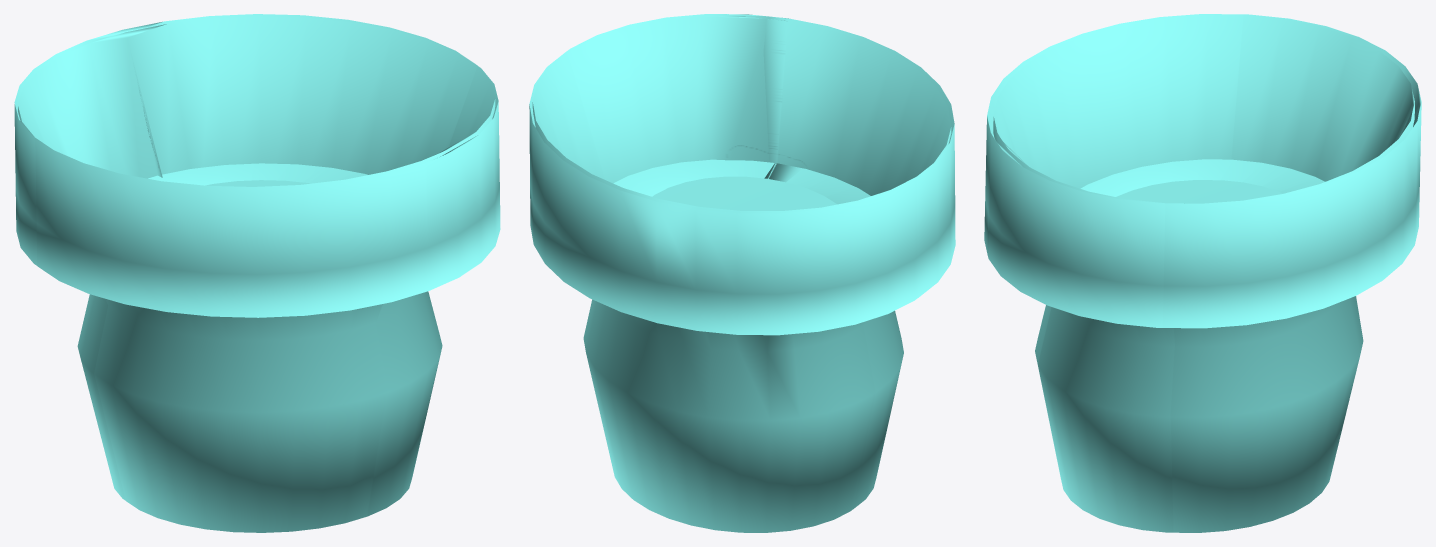
File: cup.glb
3 renders of one model, left to right at view 1: azimuth 30°, elevation 25°; view 2: azimuth 150°, elevation 25°; view 3: azimuth 270°, elevation 25°, orthographic. The views are drawn at different scales.
Visible parts, largest first — view 1: node_id5, node_id8; view 2: node_id8, node_id5; view 3: node_id8, node_id5.
Boxes of the visible parts, bbox=[...] form: node_id5: bbox=[18, 16, 500, 532]; node_id8: bbox=[14, 14, 495, 500]; node_id8: bbox=[529, 16, 951, 532]; node_id5: bbox=[532, 14, 955, 508]; node_id8: bbox=[993, 14, 1421, 532]; node_id5: bbox=[984, 14, 1414, 532].
Size of the model in its own units: 0.378 by 0.3409 by 0.3639.
2 materials, 2 textured.
